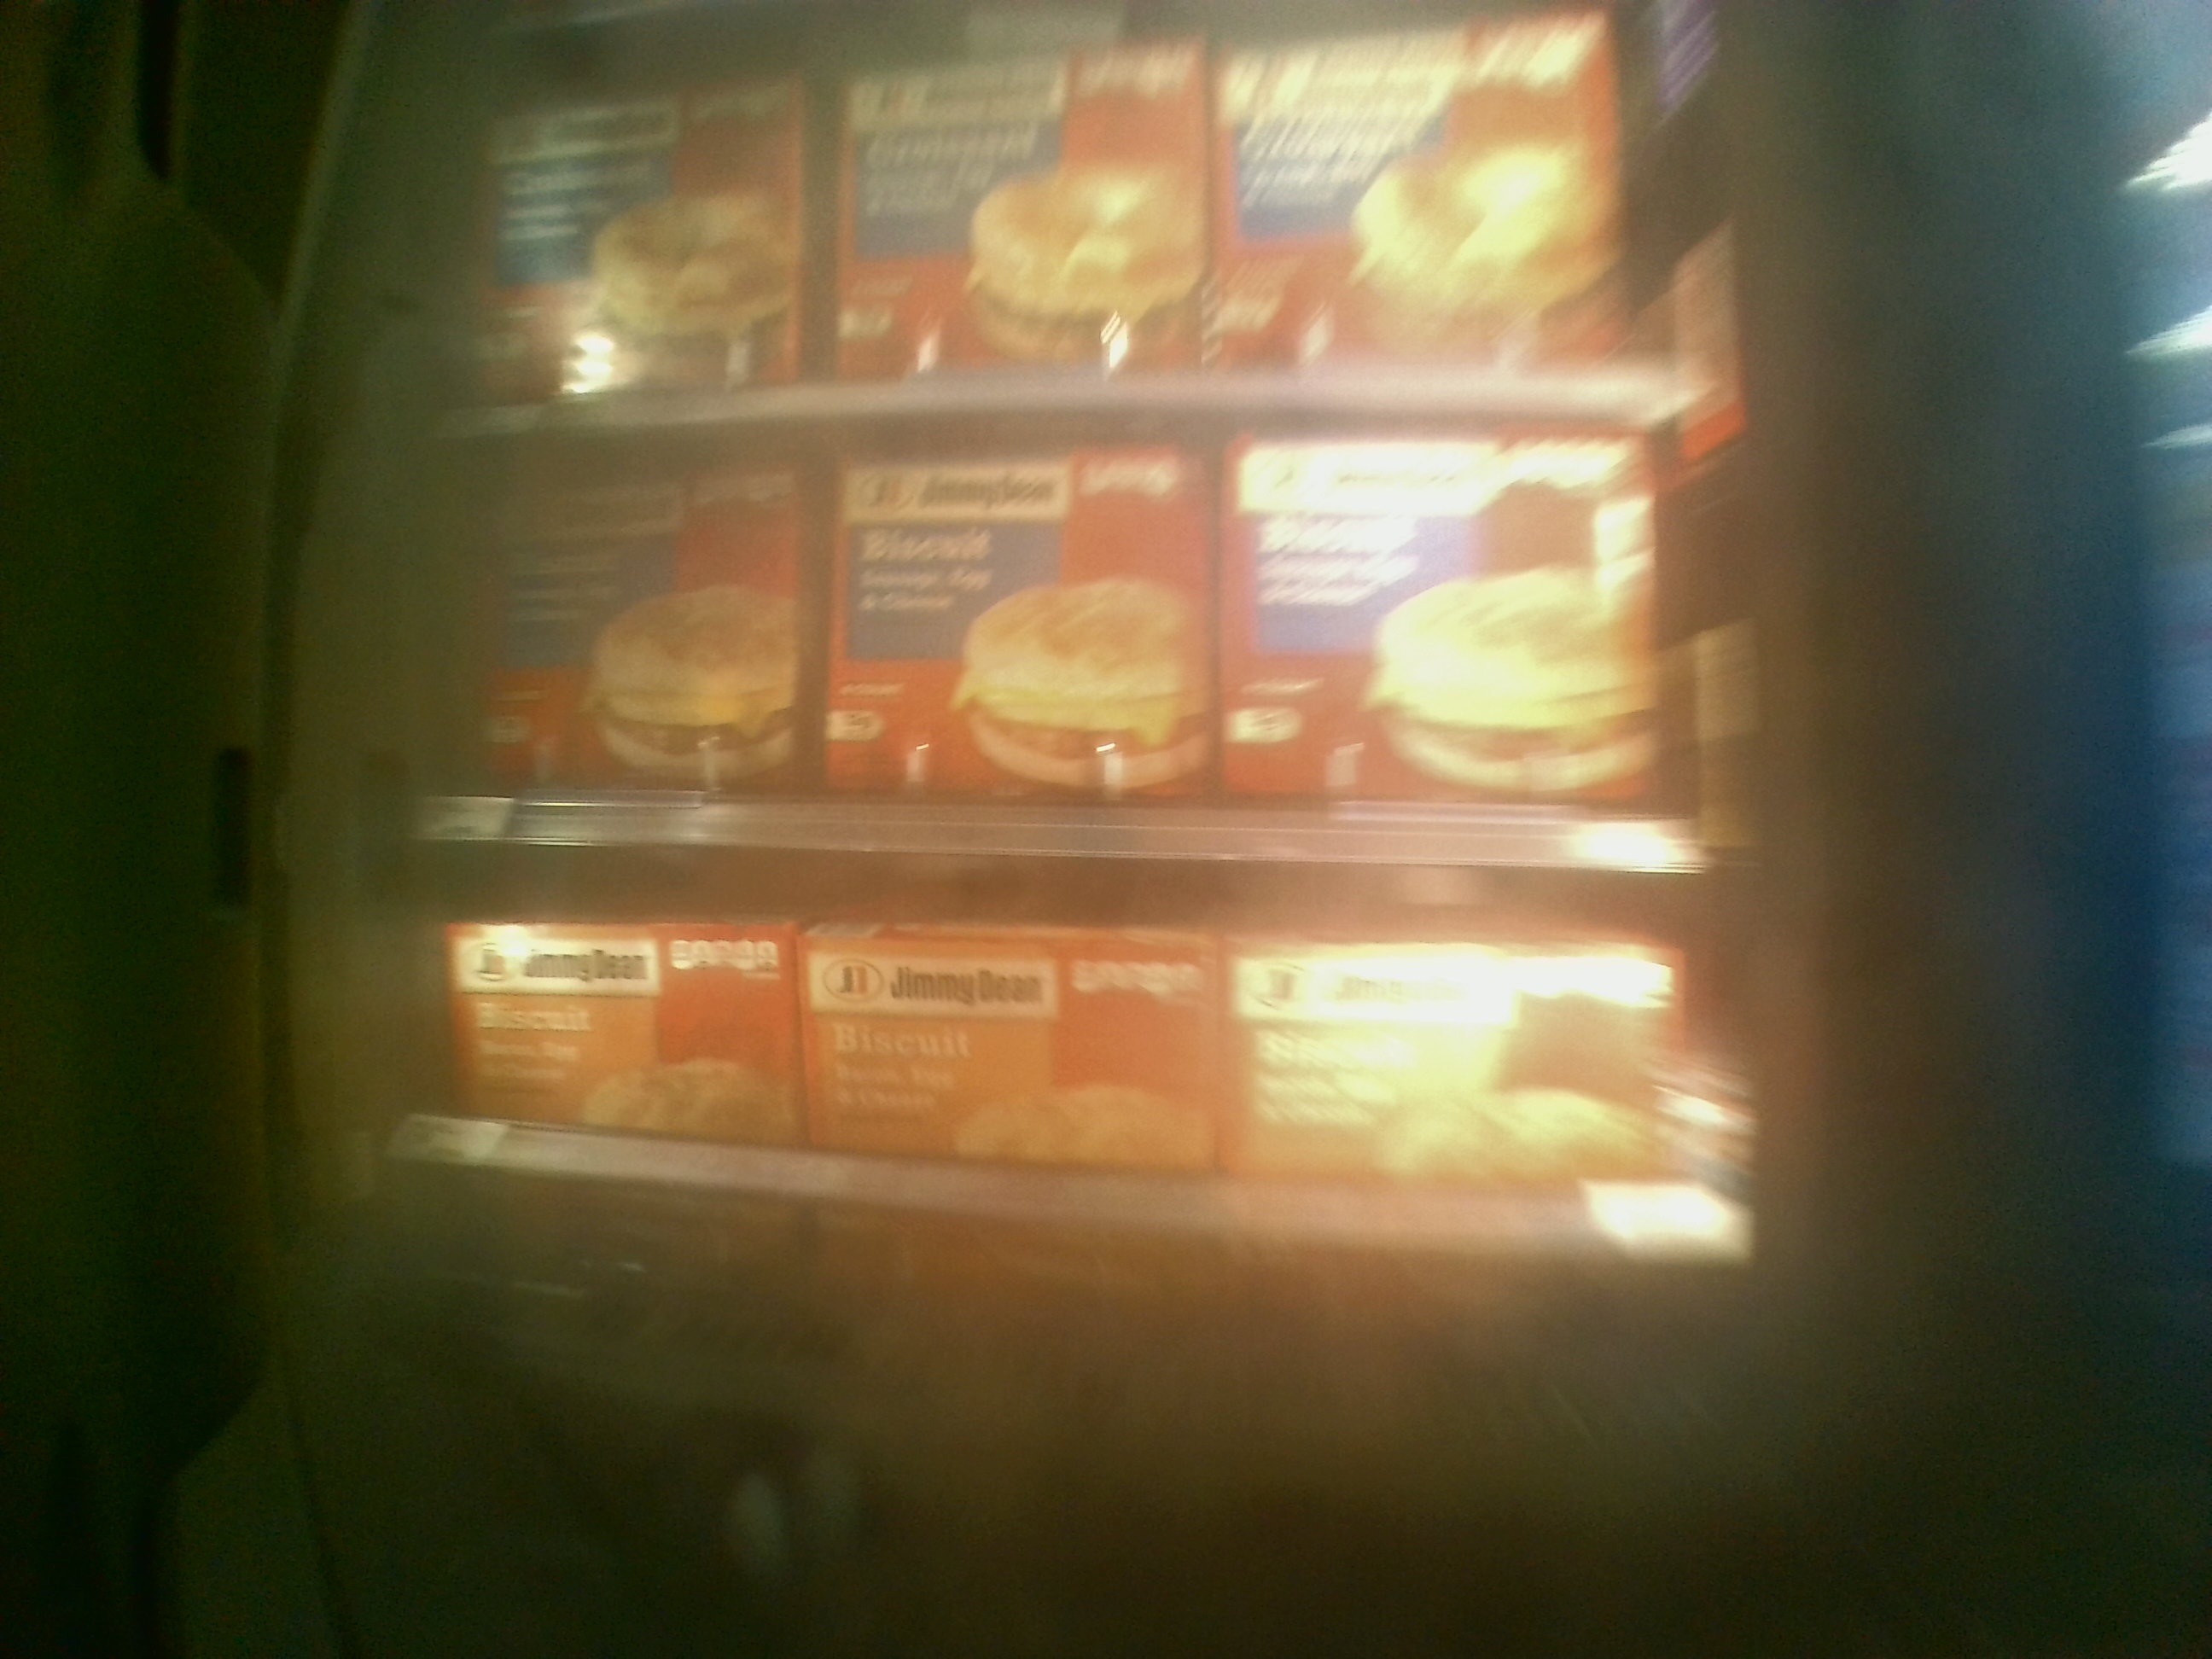shelf: (394, 868, 1742, 1394), (409, 425, 1724, 870)
